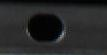holes: (25, 12, 66, 45)
